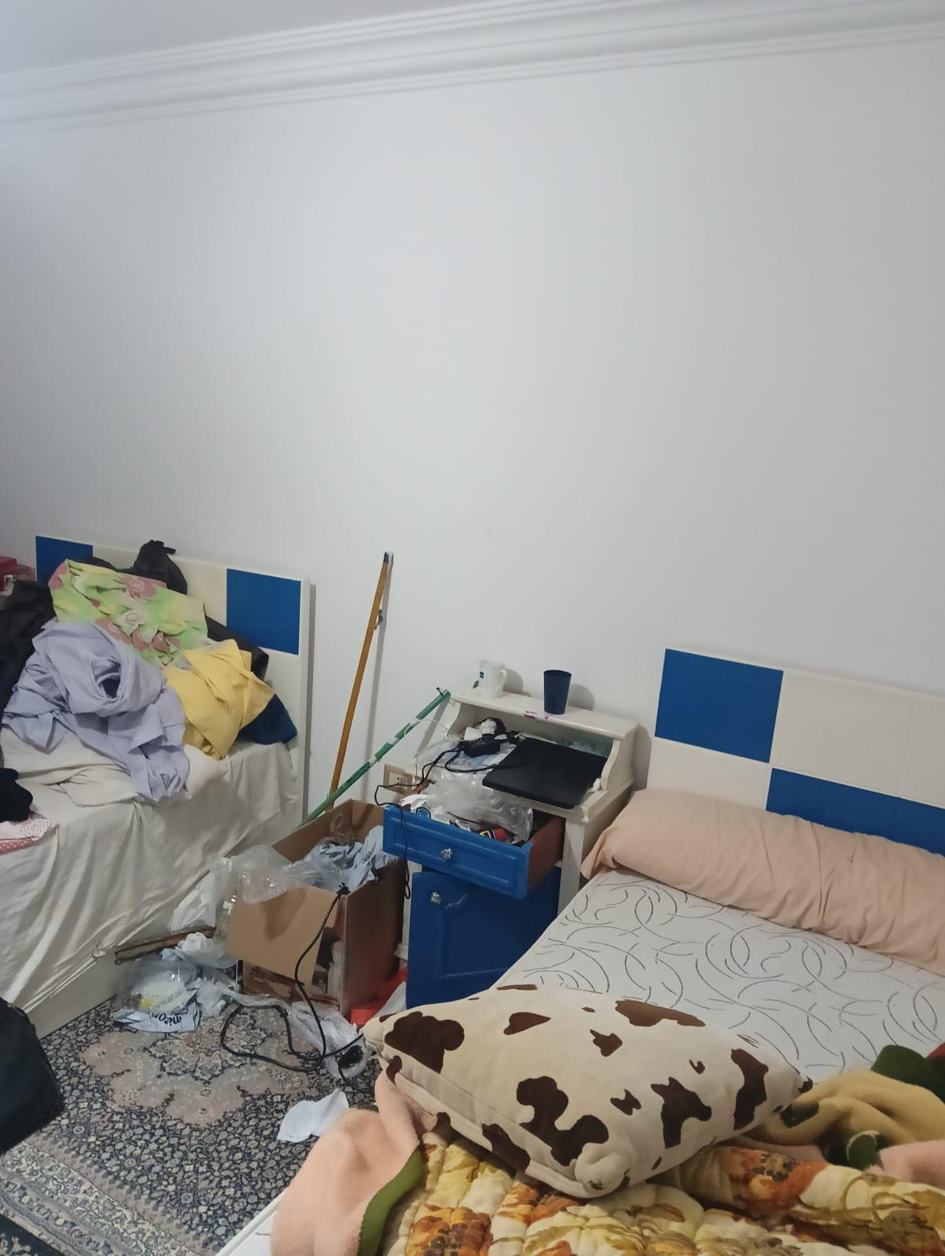cup: (543, 670, 571, 715), (474, 660, 506, 699)
